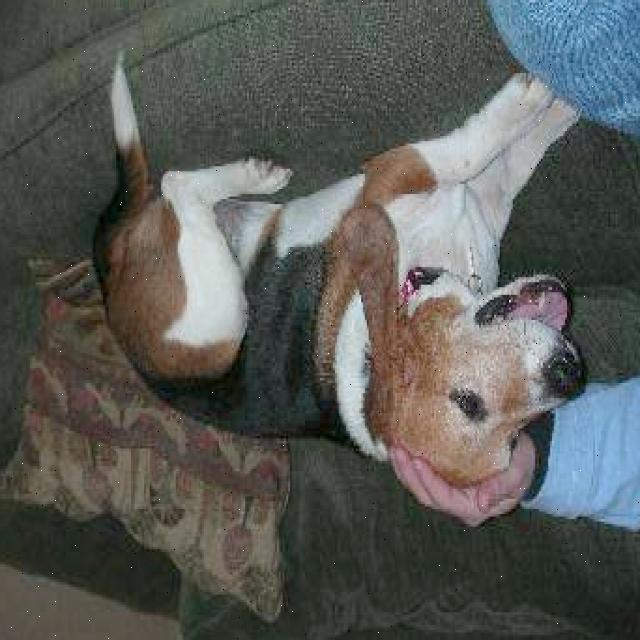Dog: (335, 179, 592, 510)
